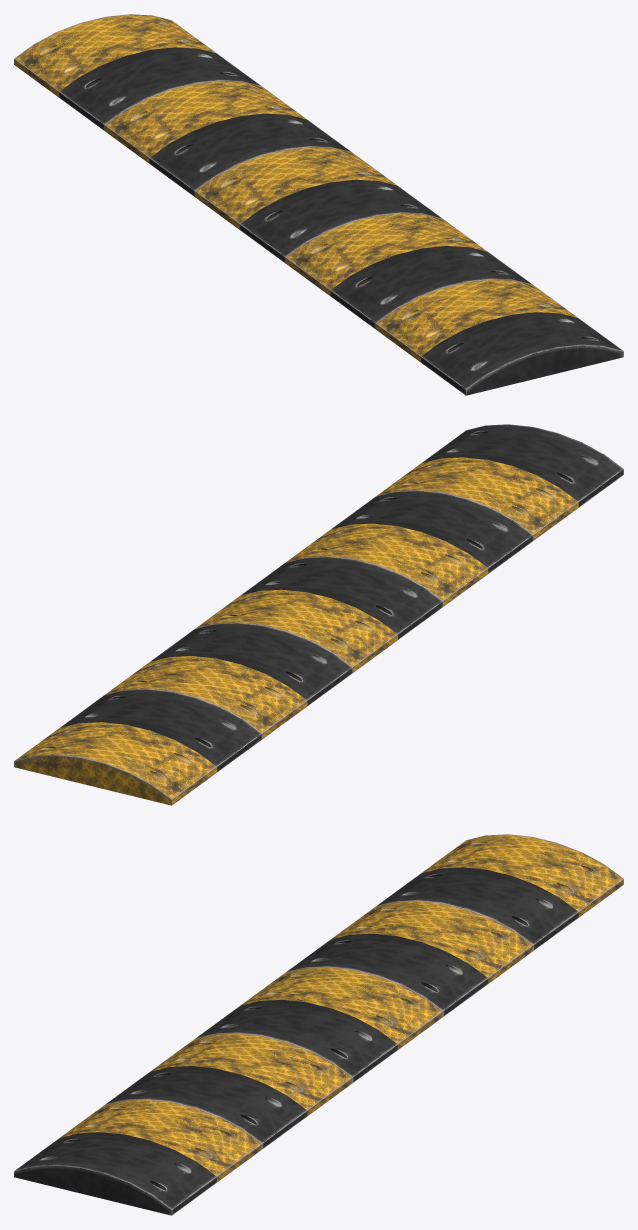
File: speed_bump.glb
The picture shows the model from 3 angles, top to bottom: view 1: azimuth 30°, elevation 25°; view 2: azimuth 150°, elevation 25°; view 3: azimuth 330°, elevation 25°; orthographic projection.
Visible parts, largest first — view 1: Cube; view 2: Cube; view 3: Cube.
Part boxes in pixels (left/top/right/bottom): Cube: left=14, top=14, right=623, bottom=395; Cube: left=14, top=424, right=623, bottom=805; Cube: left=14, top=834, right=623, bottom=1215.
Bounding box in the file's own units: 2 × 0.3114 × 9.92.
Materials: 1 (1 with a texture image).
